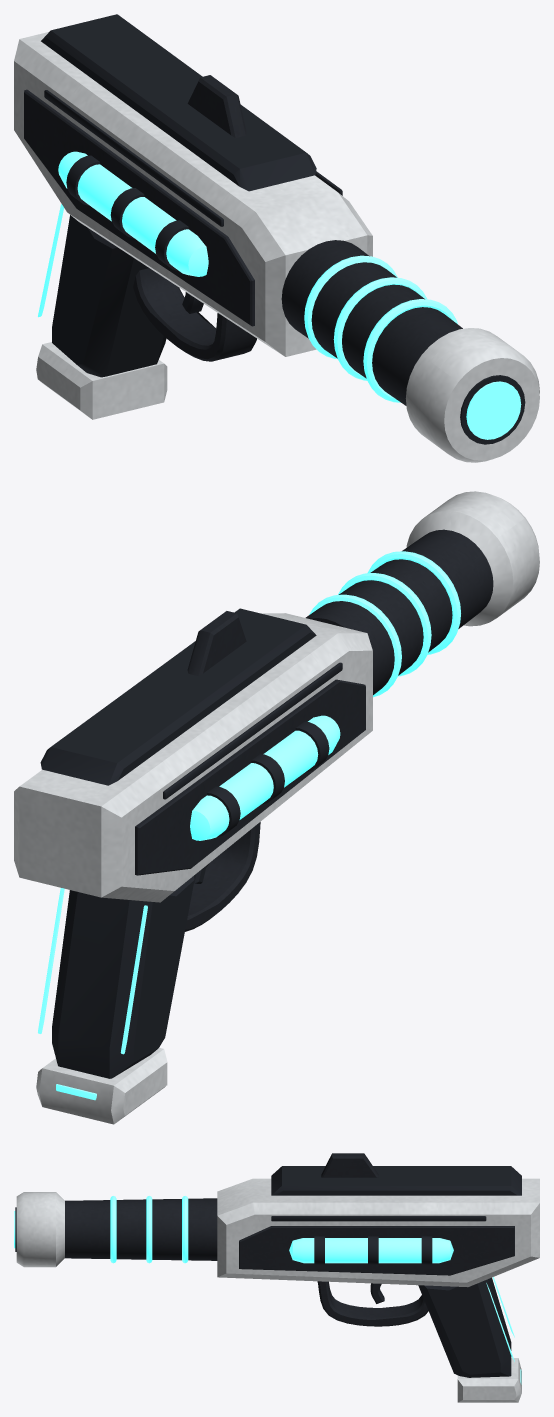
The model's file is sci-fi-blaster.glb.
3 renders of one model, top to bottom at view 1: azimuth 30°, elevation 25°; view 2: azimuth 150°, elevation 25°; view 3: azimuth 270°, elevation 25°, orthographic. The views are drawn at different scales.
Parts seen in each view (by area): view 1: Blaster, Power_Cell; view 2: Blaster, Power_Cell; view 3: Blaster, Power_Cell.
Part boxes in pixels (left/top/right/bottom): Blaster: left=14, top=14, right=539, bottom=462; Power_Cell: left=36, top=342, right=167, bottom=419; Blaster: left=14, top=491, right=539, bottom=1078; Power_Cell: left=36, top=1047, right=167, bottom=1124; Blaster: left=14, top=1153, right=539, bottom=1377; Power_Cell: left=457, top=1358, right=521, bottom=1402.
Size of the model in its own units: 0.0646 by 0.146 by 0.2935.
Materials: 4 (2 with a texture image).
